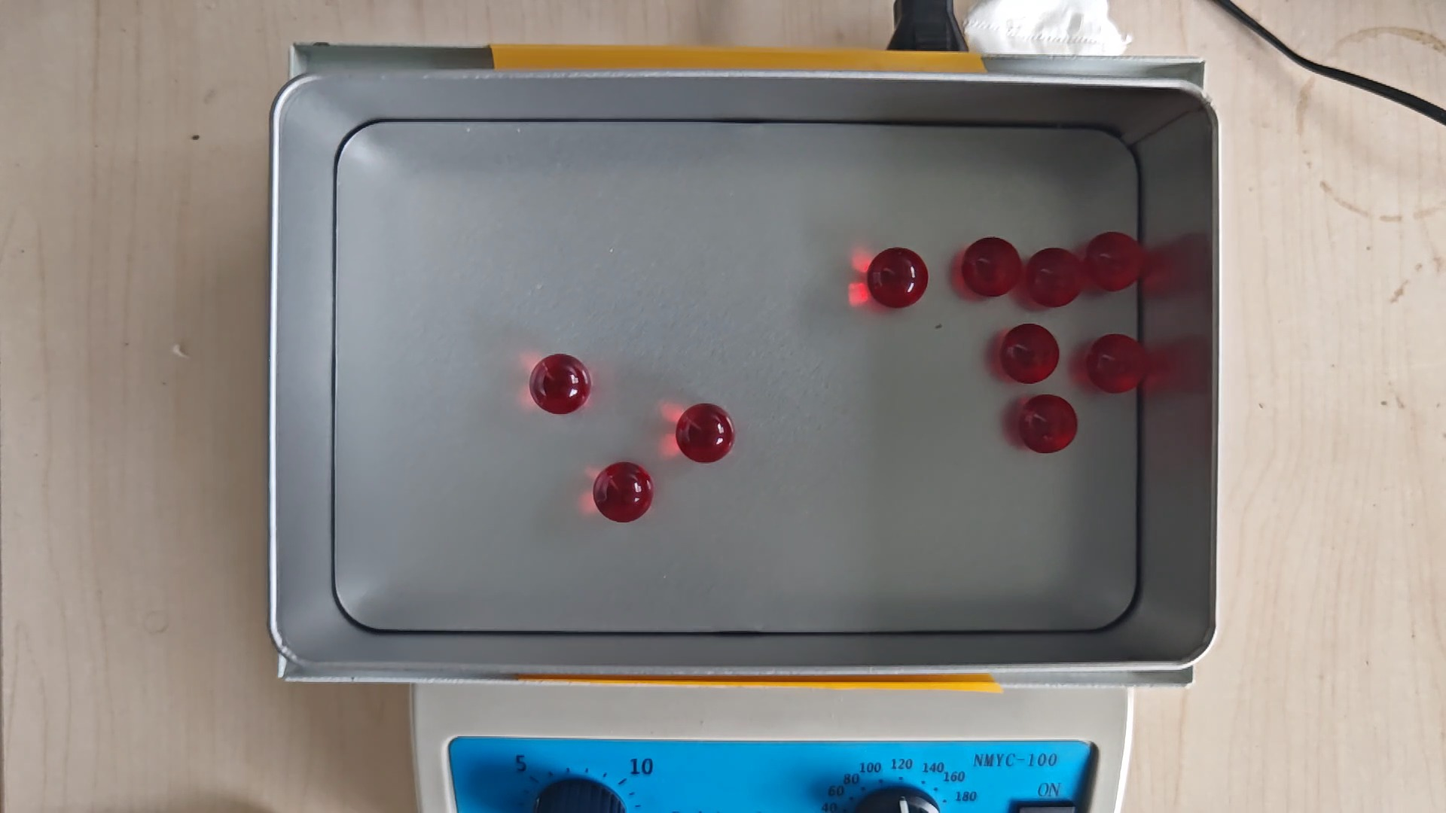ball: (530, 352, 591, 416), (1085, 333, 1147, 395), (1016, 394, 1079, 455), (594, 462, 654, 524), (868, 247, 928, 309), (963, 236, 1022, 298), (676, 403, 735, 464), (1001, 323, 1060, 384), (1085, 231, 1142, 293), (1026, 247, 1082, 308)
container: (333, 121, 1139, 633)
